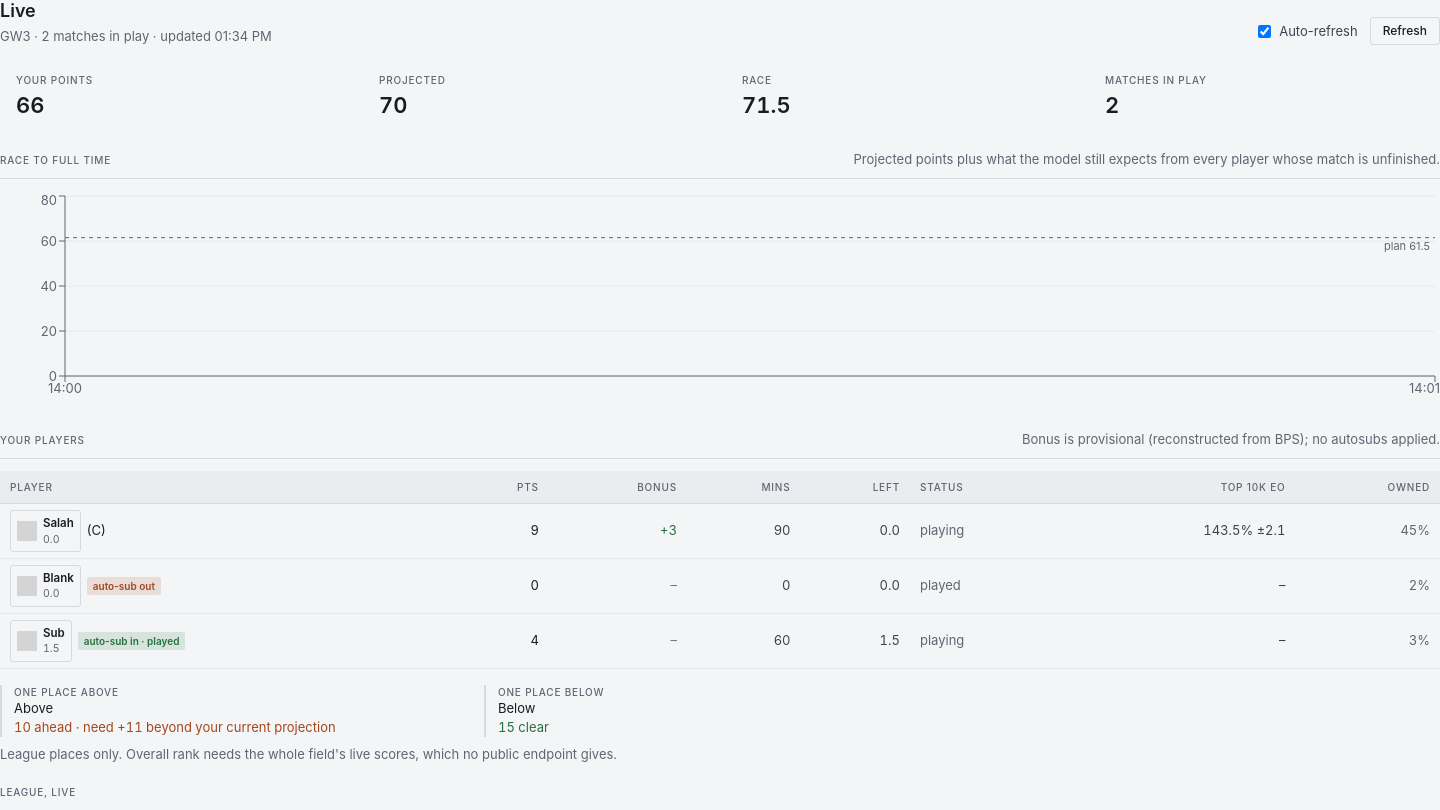
Live › opens the explain modal from a player chip
Click the button "Salah 0.0" at (45, 531), box left=10, top=510, right=81, bottom=552
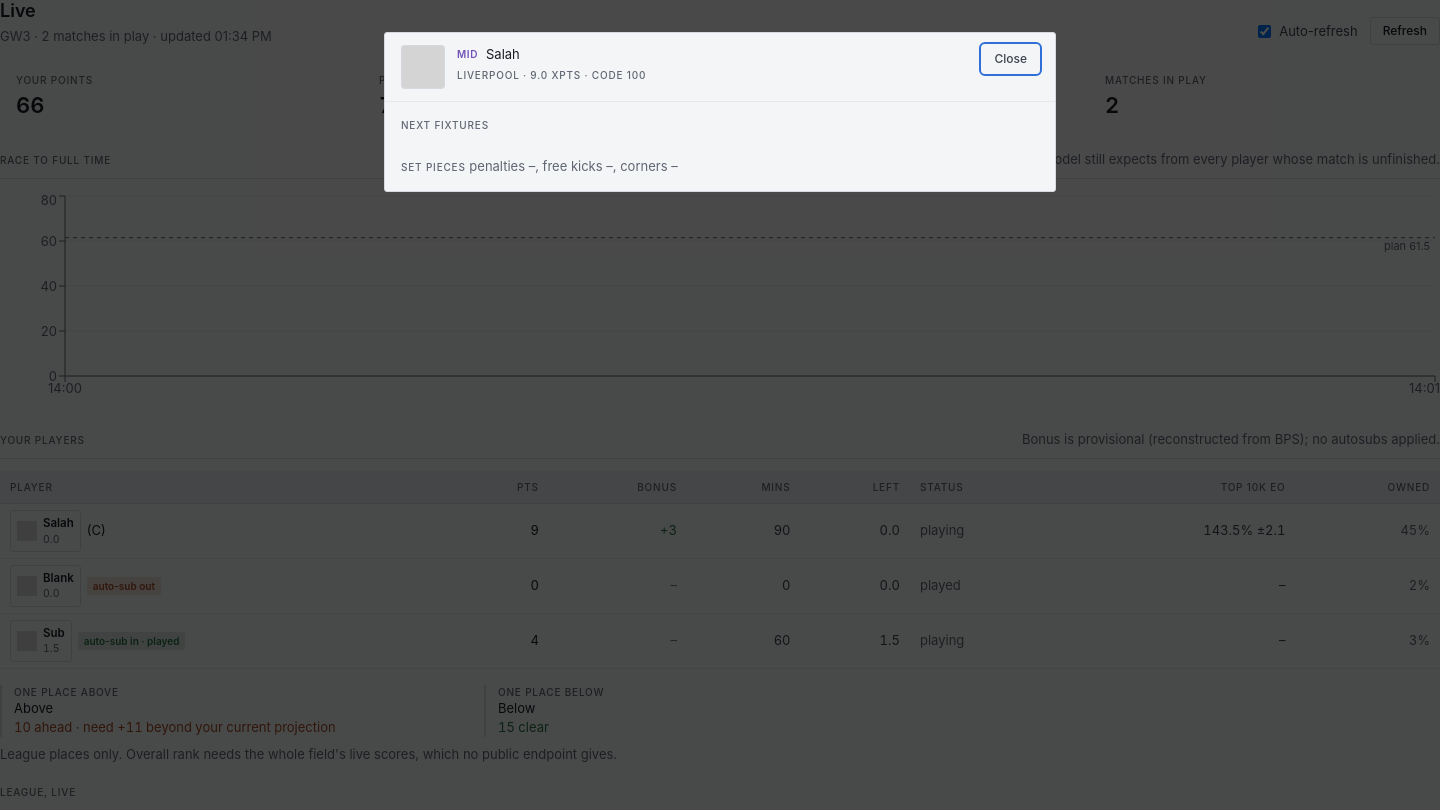
Result: the dialog is shown at left=384, top=32, right=1056, bottom=192
